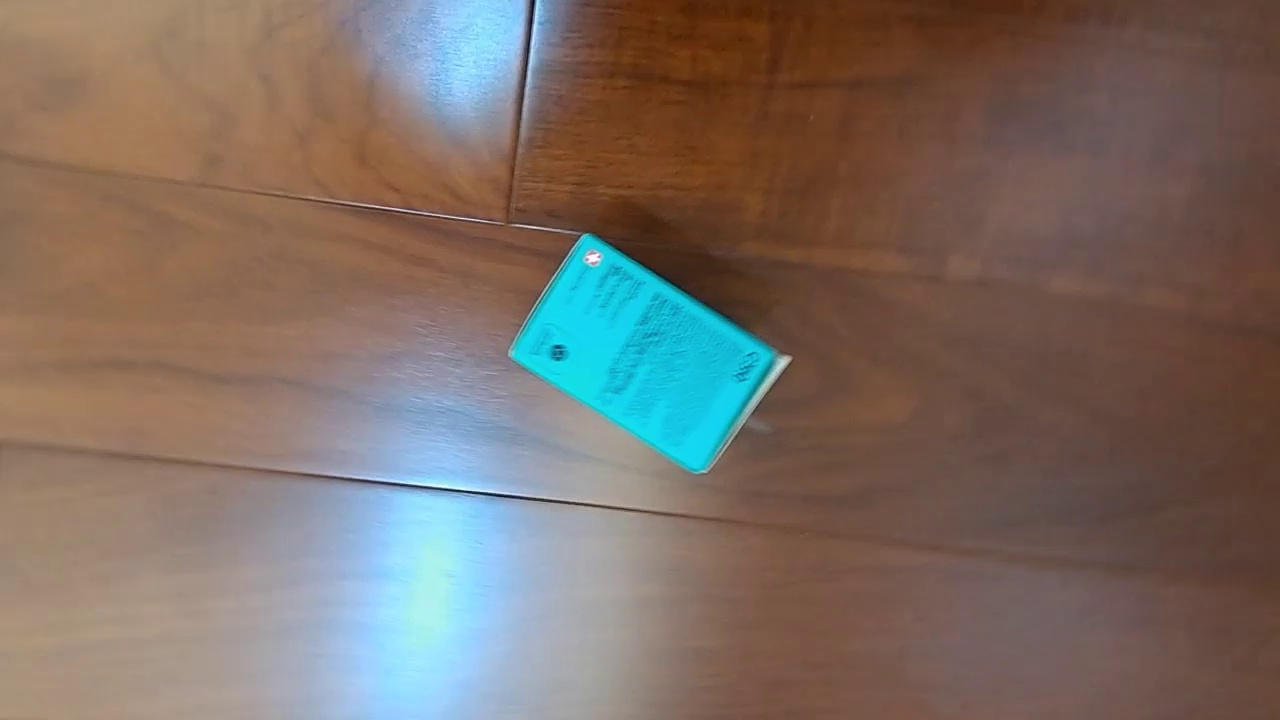webcam: (505, 231, 794, 478)
